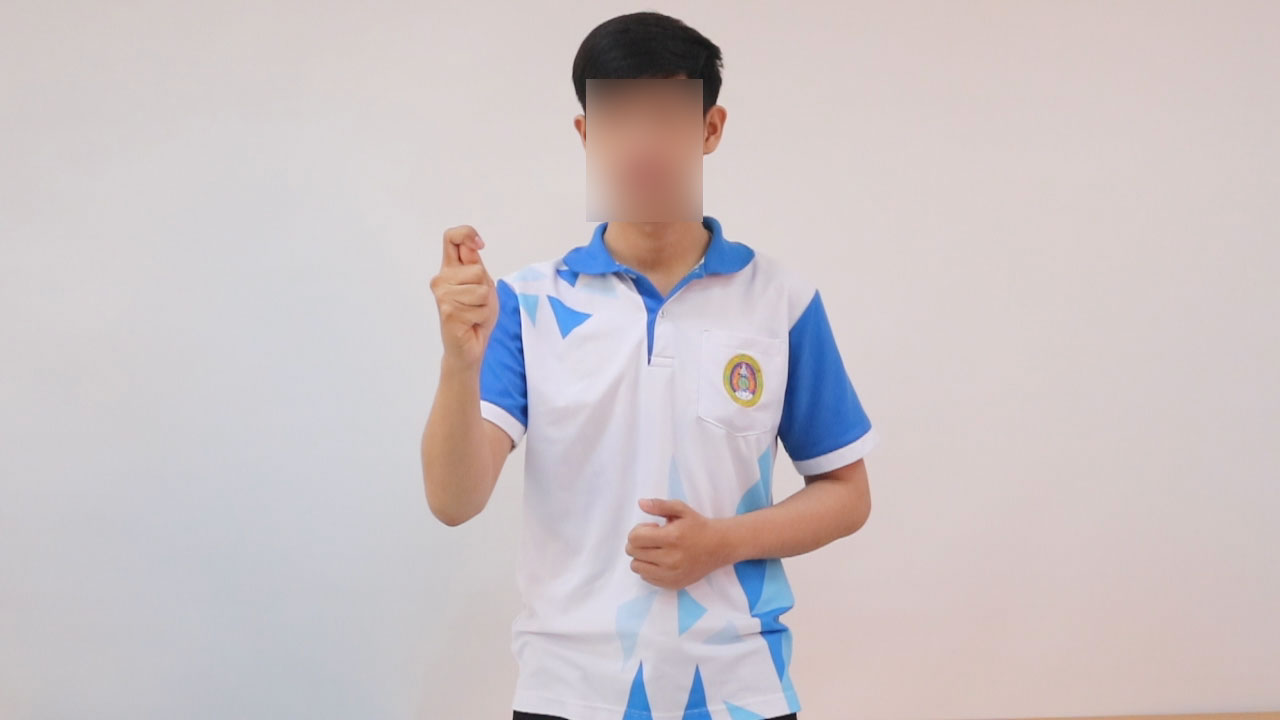or: (429, 221, 506, 379)
